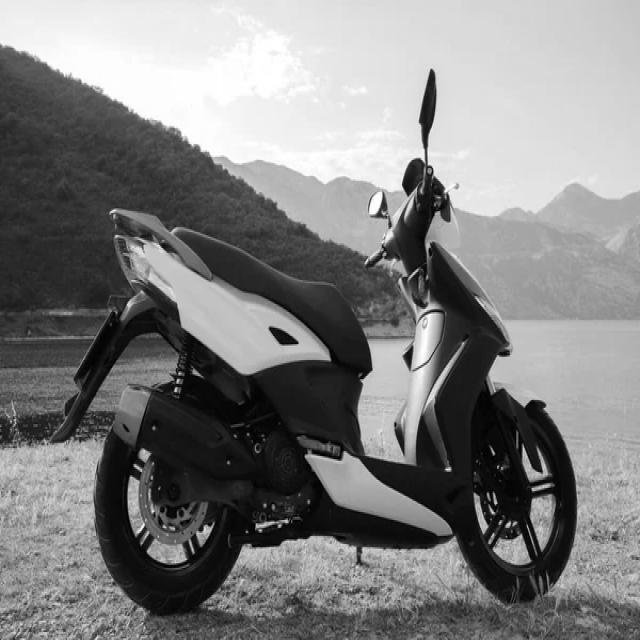Motorcycle: (51, 156, 578, 614)
